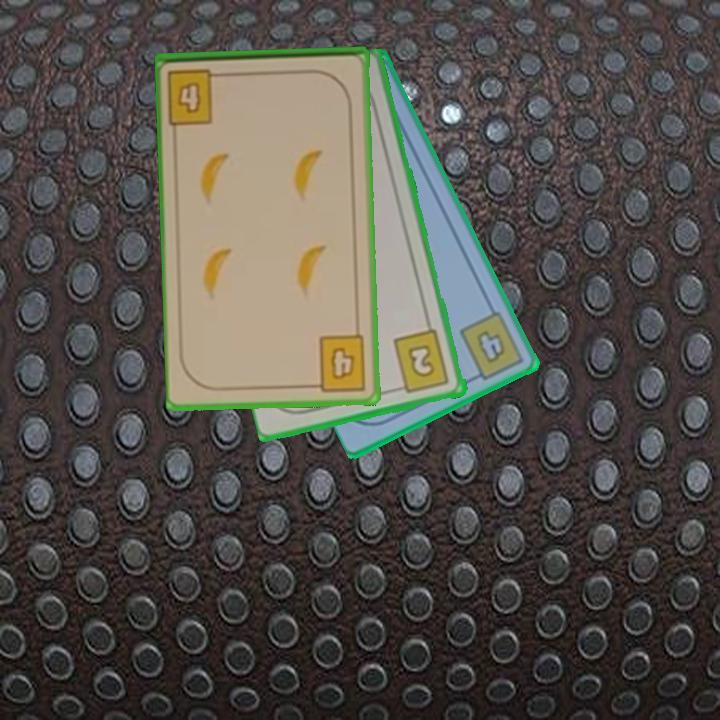2b: (390, 327, 453, 397)
4b: (456, 308, 527, 385), (164, 65, 229, 127), (307, 332, 369, 394)
